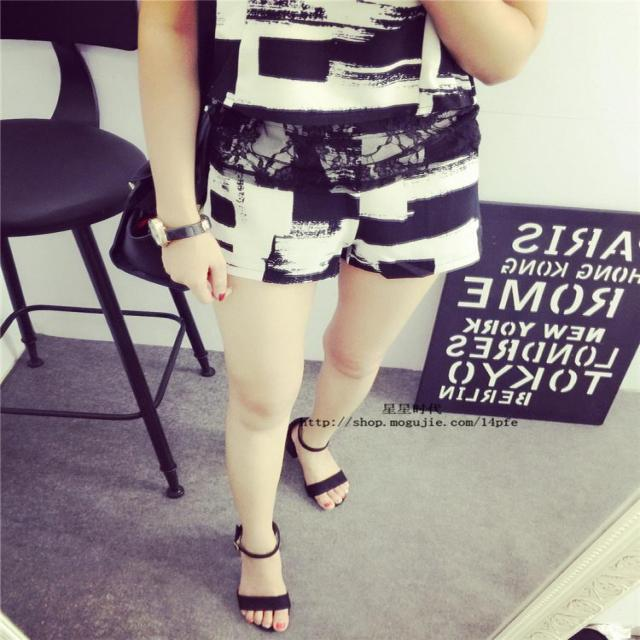short-sleeve-dress: (171, 42, 569, 294)
